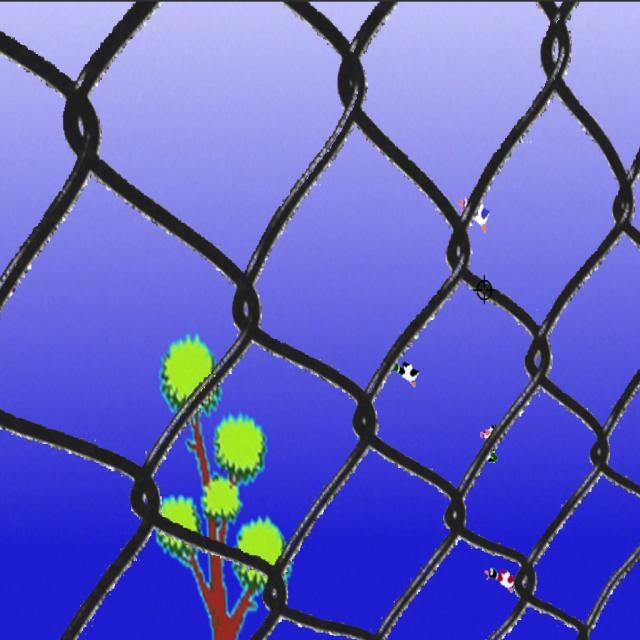duck: (478, 553, 522, 598), (457, 192, 494, 234), (390, 356, 423, 393)
falling_duck: (479, 420, 502, 472)
